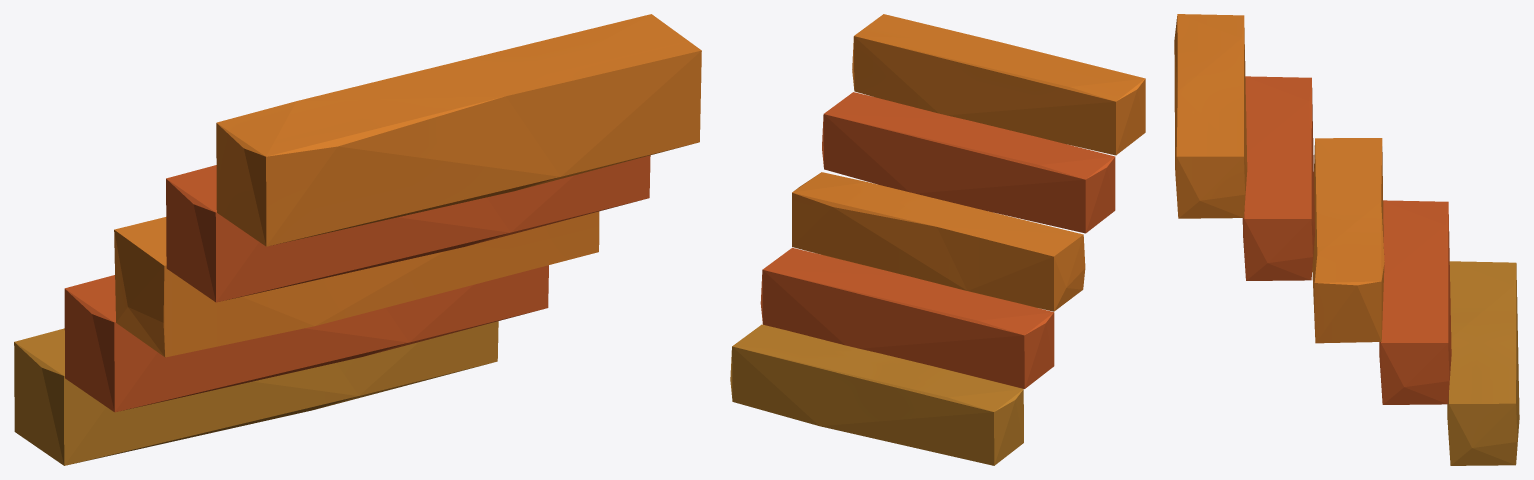
Rendered from Internal staircase.fbx.
The picture shows the model from 3 angles, left to right: view 1: azimuth 30°, elevation 25°; view 2: azimuth 150°, elevation 25°; view 3: azimuth 270°, elevation 25°; orthographic projection. The views are drawn at different scales.
Visible parts, largest first — view 1: Internal staircase; view 2: Internal staircase; view 3: Internal staircase.
Part boxes in pixels (x1,y1,x2,y2): Internal staircase: (14,14,701,465); Internal staircase: (730,14,1145,465); Internal staircase: (1174,14,1519,465).
Bounding box in the file's own units: 1 × 1 × 1.
